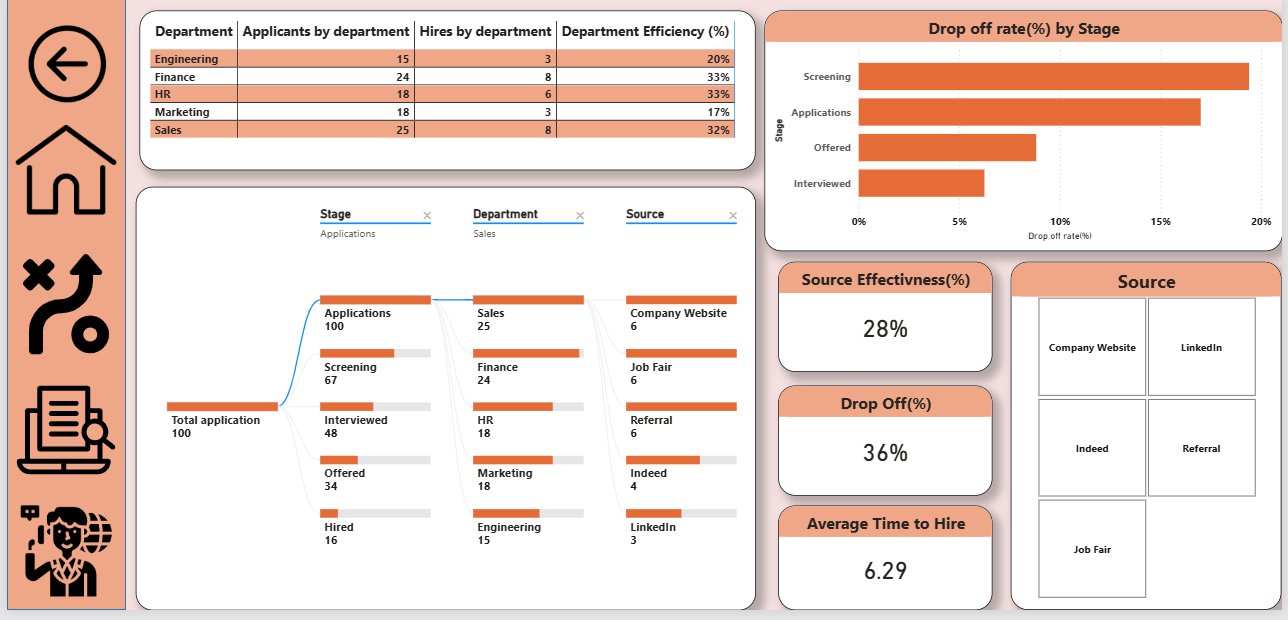

Layout of this report page (visuals, bound fields, positions):
{"tool":"powerbi","page":{"name":"Recruitment  Performance ","canvas":[1500,720],"ordinal":3},"visuals":[{"type":"shape","box":[0,0,140,720],"z":0},{"type":"decompositionTreeVisual","fields":{"ExplainBy":["recruitment_funnel_data.Stage","recruitment_funnel_data.Department","recruitment_funnel_data.Source"],"Analyze":["New measures.Total application"]},"box":[150.8,221.5,729.2,498.5],"z":1000},{"type":"tableEx","fields":{"Values":["recruitment_funnel_data.Department","New measures.Applicants by department","New measures.Hires by department","New measures.Department Efficiency (%)"]},"box":[155.4,15.4,724.6,187.7],"z":2000},{"type":"barChart","fields":{"Y":["New measures.Drop off rate(%)"],"Category":["recruitment_funnel_data.Stage"]},"box":[890.8,15.4,609.2,283.1],"z":3000},{"type":"card","title":"Drop Off(%)","fields":{"Values":["New measures.Drop off rate(%)"]},"box":[907.7,455.4,252.3,129.2],"z":4000},{"type":"card","title":"Source Effectivness(%)","fields":{"Values":["New measures.Source effectivness(%)"]},"box":[907.7,310.8,252.3,129.2],"z":5000},{"type":"card","title":"Average Time to Hire","fields":{"Values":["New measures.Avg time to hire"]},"box":[907.7,596.9,252.3,123.1],"z":6000},{"type":"slicer","title":"Source","fields":{"Values":["recruitment_funnel_data.Source"]},"box":[1181.5,310.8,318.5,409.2],"z":7000},{"type":"image","box":[10.8,432.3,118.5,152.3],"z":8000},{"type":"image","box":[10.8,296.9,118.5,126.2],"z":9000},{"type":"image","box":[10.8,141.5,118.5,121.5],"z":10000},{"type":"image","box":[12.3,32.3,118.5,90.8],"z":11000},{"type":"image","box":[16.2,580.9,107.4,139.7],"z":11001}]}

Visuals, with their boxes on the page's 1500x720 design canvas (x1, y1, x2, y2). These are canvas units, not pixel positions in the 1288x620 screenshot, which may show the page scaled, cropped or inside an application window:
shape: [0,0,140,720]
decompositionTreeVisual - recruitment_funnel_data.Stage x recruitment_funnel_data.Department: [151,222,880,720]
tableEx - recruitment_funnel_data.Department x New measures.Applicants by department: [155,15,880,203]
barChart - New measures.Drop off rate(%) x recruitment_funnel_data.Stage: [891,15,1500,298]
"Drop Off(%)" card: [908,455,1160,585]
"Source Effectivness(%)" card: [908,311,1160,440]
"Average Time to Hire" card: [908,597,1160,720]
"Source" slicer: [1182,311,1500,720]
image: [11,432,129,585]
image: [11,297,129,423]
image: [11,142,129,263]
image: [12,32,131,123]
image: [16,581,124,721]
